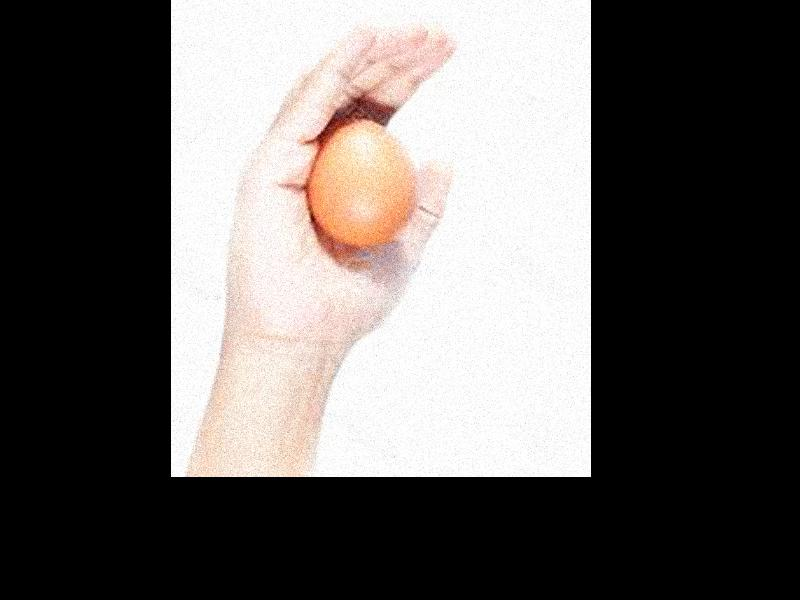Eggs: (310, 120, 416, 245)
